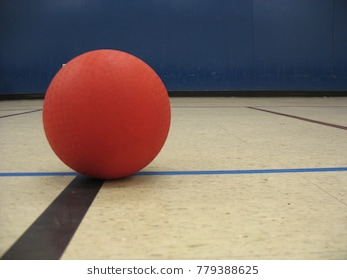red ball: (41, 48, 172, 182)
